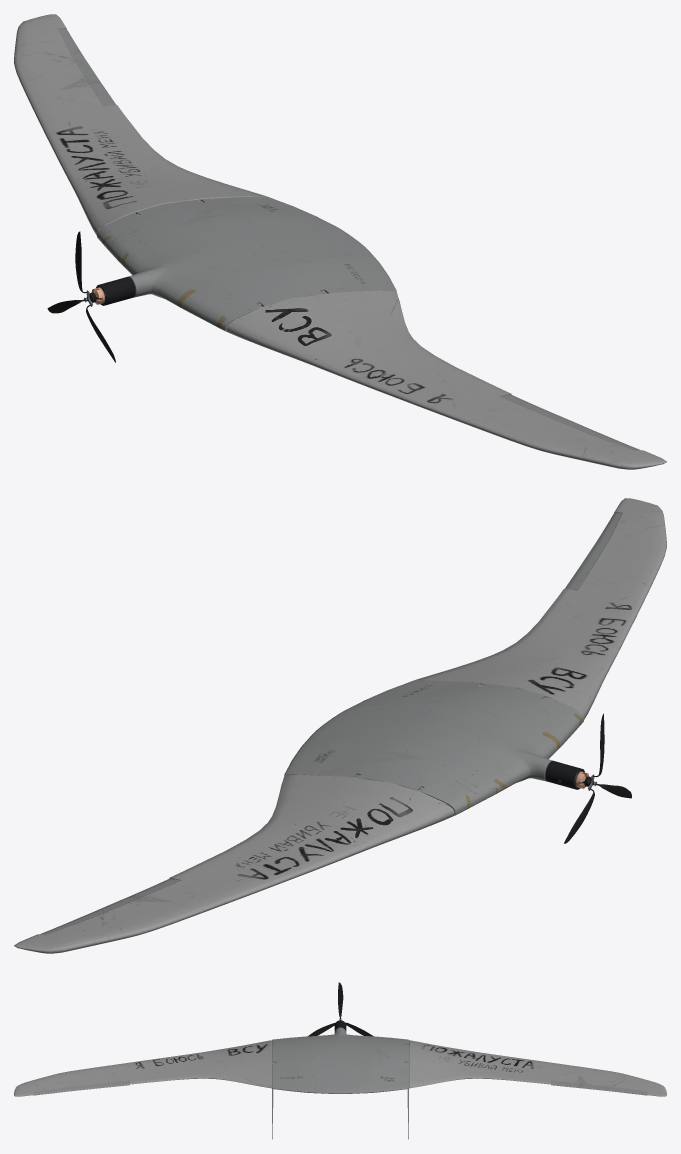
The model's file is super_cam__-_rusian_reconnaissance_drone_draco.glb.
3 views of the same model, one above another, from view 1: azimuth 30°, elevation 25°; view 2: azimuth 150°, elevation 25°; view 3: azimuth 270°, elevation 25° (orthographic). The views are drawn at different scales.
Visible parts, largest first — view 1: Cube.001; view 2: Cube.001; view 3: Cube.001.
Boxes of the visible parts, left/top/right/bottom form: Cube.001: left=14, top=14, right=666, bottom=469; Cube.001: left=14, top=498, right=666, bottom=953; Cube.001: left=14, top=982, right=666, bottom=1139.
Size of the model in its own units: 0.8424 by 0.4546 by 3.15.
1 material, 1 textured.
